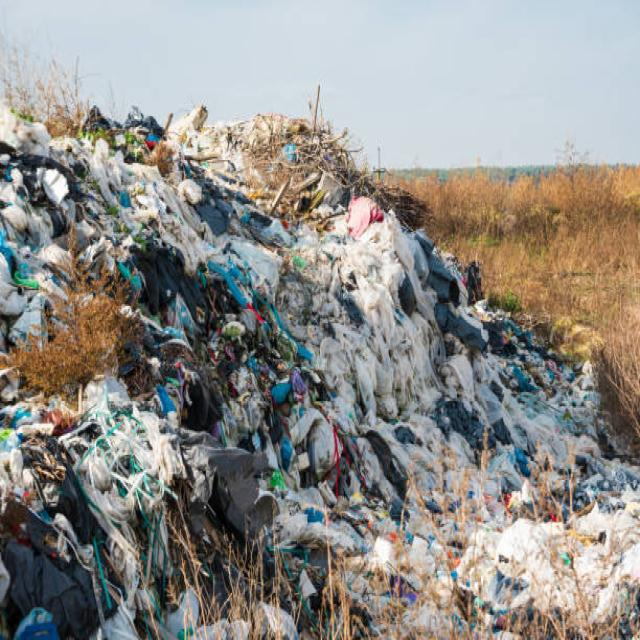plastic: (106, 185, 525, 595)
